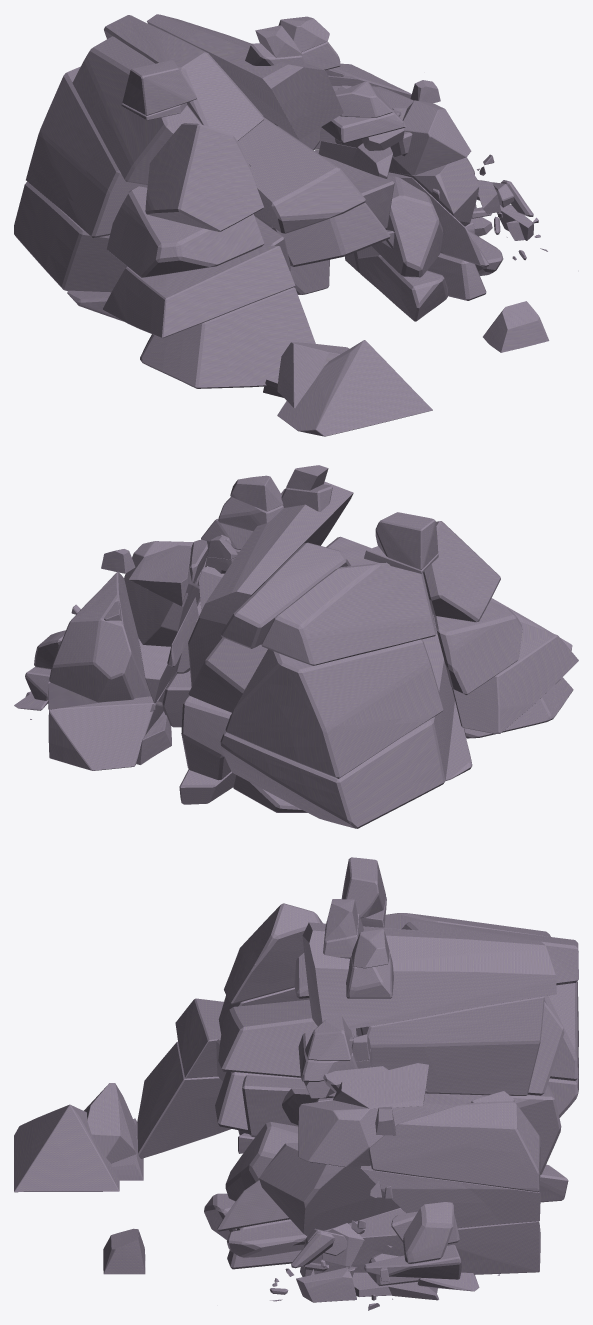
The model's file is A09_Massif_A.fbx.
The picture shows the model from 3 angles, top to bottom: view 1: azimuth 30°, elevation 25°; view 2: azimuth 150°, elevation 25°; view 3: azimuth 270°, elevation 25°; orthographic projection. The views are drawn at different scales.
Visible parts, largest first — view 1: A09A_0_0, A09A_0_4, A09A_0_9, A09A_0_12, A09A_0_10, A09A_0_buttress1_0, A09A_0_16, A09A_0_14, A09A_0_8, A09A_0_5, A09A_0_15, A09A_1_5 (+27 smaller); view 2: A09A_0_9, A09A_0_5, A09A_0_14, A09A_1_15, A09A_0_16, A09A_1_4, A09A_0_4, A09A_0_8, A09A_0_15, A09A_0_12, A09A_0_10, A09A_1_14 (+24 smaller); view 3: A09A_0_16, A09A_0_11, A09A_1_15, A09A_0_10, A09A_0_buttress1_0, A09A_1_9, A09A_0_0, A09A_1_4, A09A_1_10, A09A_0_12, A09A_1_14, A09A_0_6 (+35 smaller).
Part boxes in pixels (bbox=[...]): A09A_0_0: bbox=[140, 287, 315, 388]; A09A_0_4: bbox=[103, 245, 295, 338]; A09A_0_9: bbox=[26, 66, 147, 237]; A09A_0_12: bbox=[145, 123, 263, 231]; A09A_0_10: bbox=[237, 117, 365, 233]; A09A_0_buttress1_0: bbox=[277, 340, 432, 436]; A09A_0_16: bbox=[147, 14, 343, 139]; A09A_0_14: bbox=[72, 36, 202, 184]; A09A_0_8: bbox=[107, 186, 264, 277]; A09A_0_5: bbox=[14, 181, 290, 292]; A09A_0_15: bbox=[104, 15, 264, 141]; A09A_1_5: bbox=[372, 176, 443, 277]; A09A_0_9: bbox=[225, 639, 443, 778]; A09A_0_5: bbox=[220, 614, 454, 828]; A09A_0_14: bbox=[261, 562, 436, 665]; A09A_1_15: bbox=[49, 571, 146, 702]; A09A_0_16: bbox=[198, 481, 353, 624]; A09A_1_4: bbox=[48, 696, 163, 770]; A09A_0_4: bbox=[452, 622, 578, 733]; A09A_0_8: bbox=[434, 601, 522, 694]; A09A_0_15: bbox=[220, 542, 350, 648]; A09A_0_12: bbox=[423, 521, 500, 622]; A09A_0_10: bbox=[188, 536, 378, 712]; A09A_1_14: bbox=[124, 541, 199, 646]; A09A_0_16: bbox=[302, 922, 556, 1029]; A09A_0_11: bbox=[356, 996, 544, 1095]; A09A_1_15: bbox=[368, 1101, 540, 1192]; A09A_0_10: bbox=[218, 999, 564, 1095]; A09A_0_buttress1_0: bbox=[14, 1104, 119, 1192]; A09A_1_9: bbox=[259, 1143, 400, 1235]; A09A_0_0: bbox=[137, 1041, 231, 1158]; A09A_1_4: bbox=[300, 1208, 540, 1276]; A09A_1_10: bbox=[360, 1165, 540, 1228]; A09A_0_12: bbox=[224, 903, 322, 1004]; A09A_1_14: bbox=[298, 1100, 427, 1167]; A09A_0_6: bbox=[215, 1072, 561, 1174].
Bounding box in the file's own units: 585 × 337 × 606.
